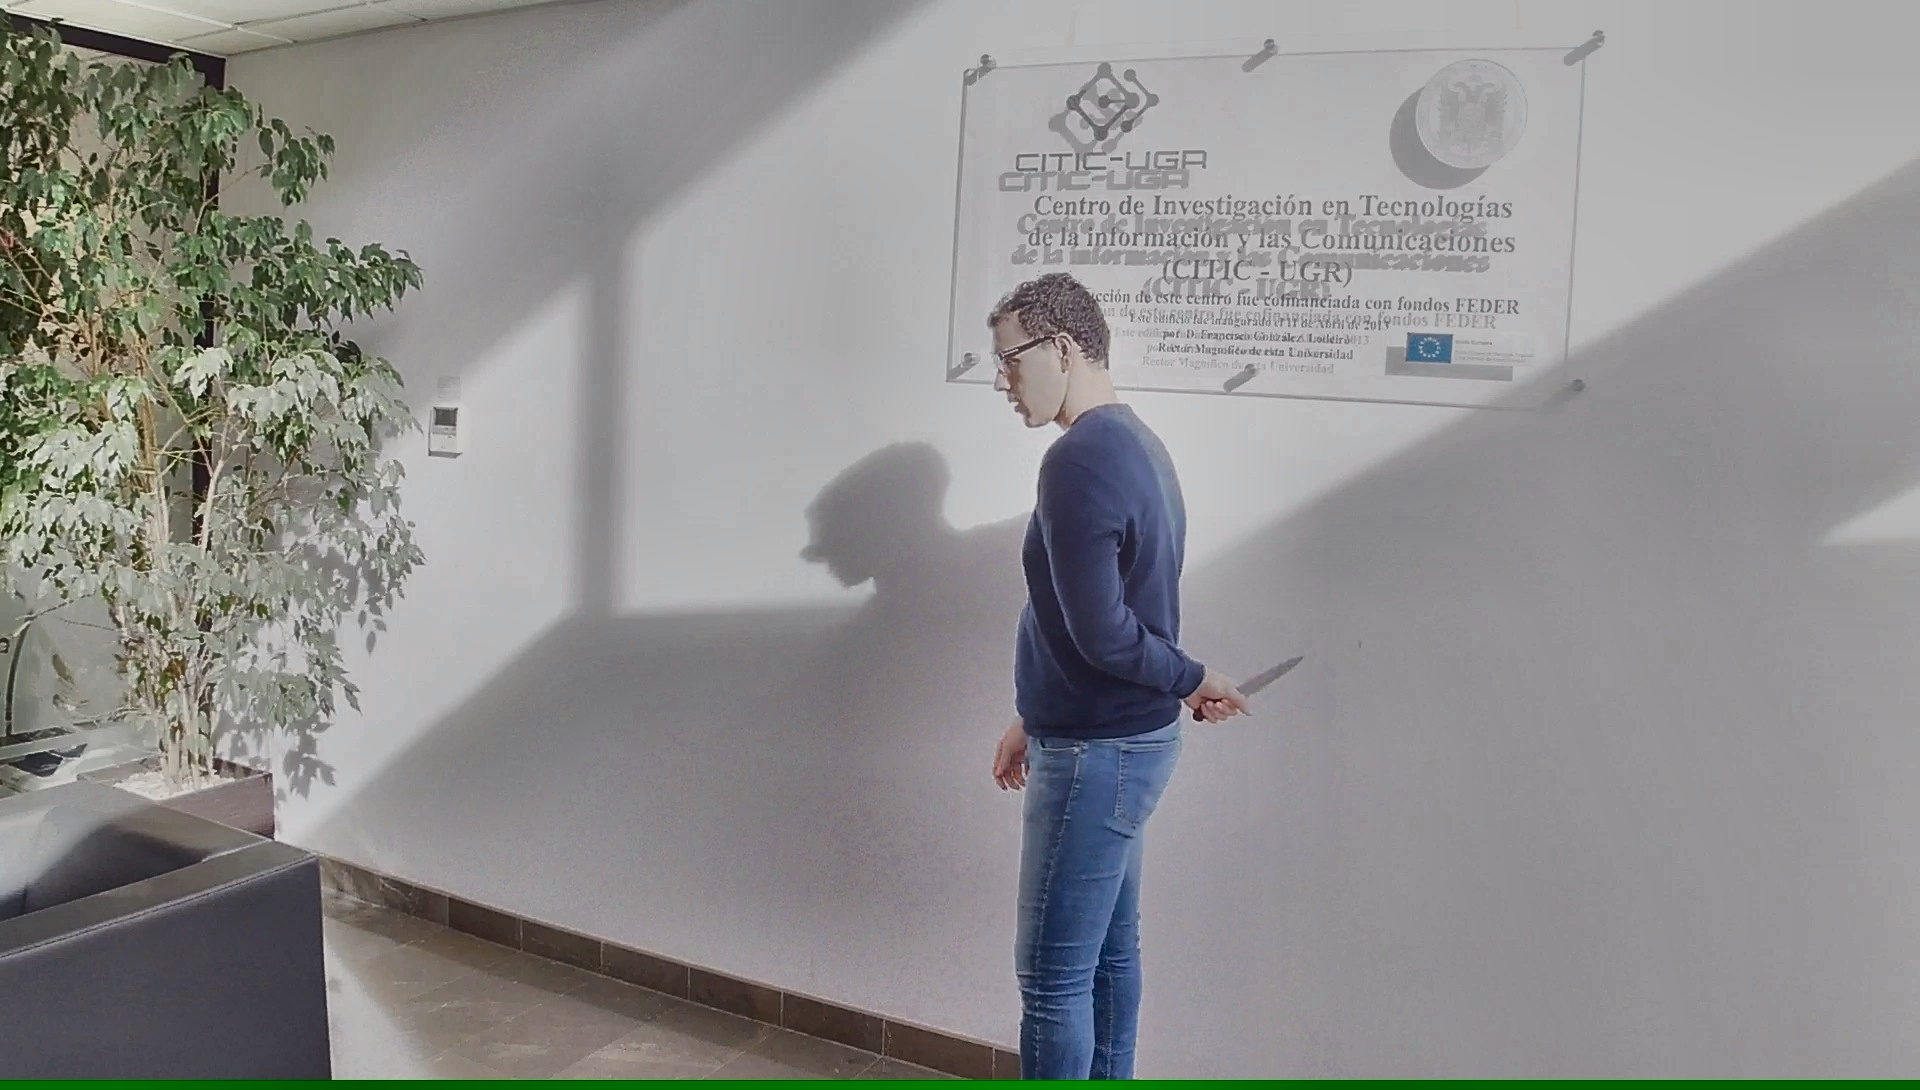knife: (1185, 647, 1313, 729)
